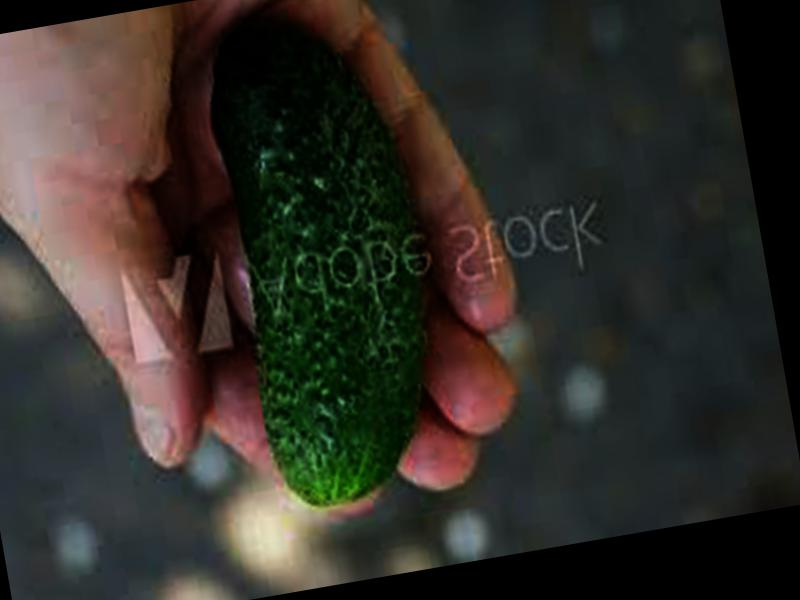Cucumber: (198, 4, 464, 510)
